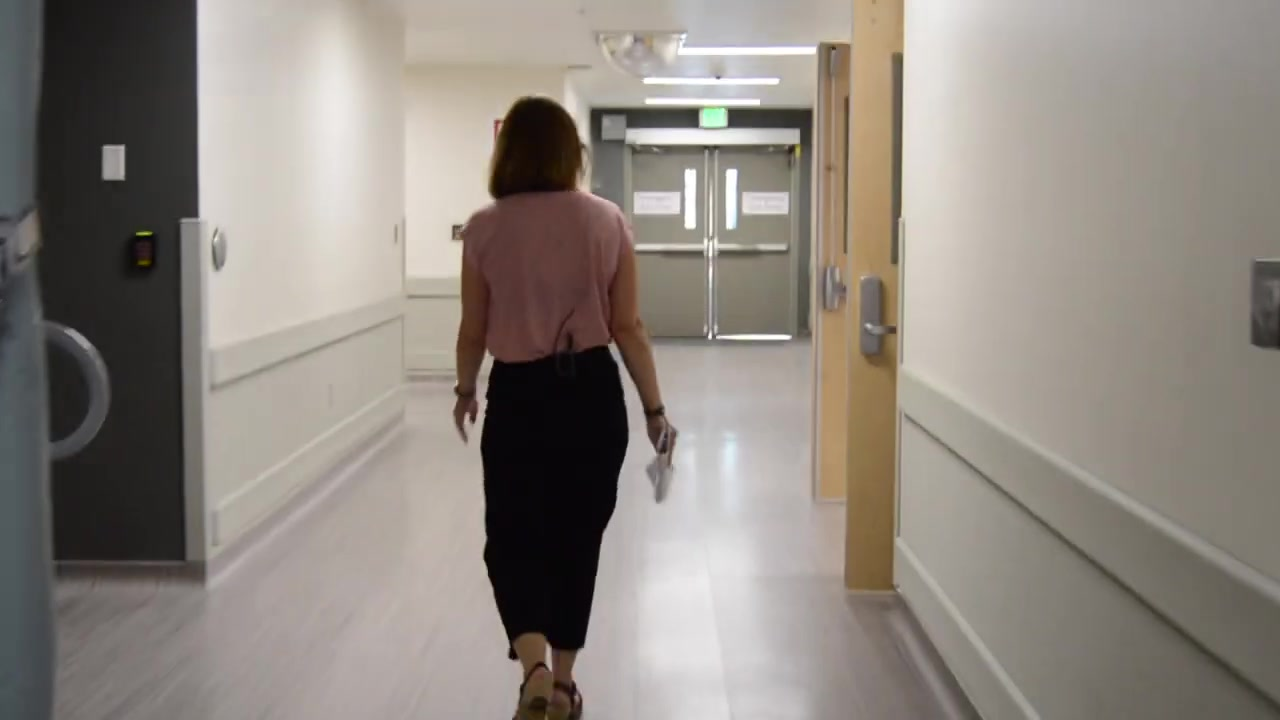door_handle: (850, 267, 897, 360)
handle: (41, 319, 111, 460)
person: (452, 95, 678, 720)
press_to_open: (206, 224, 234, 274)
push_latch: (633, 242, 706, 254), (714, 244, 788, 253)
